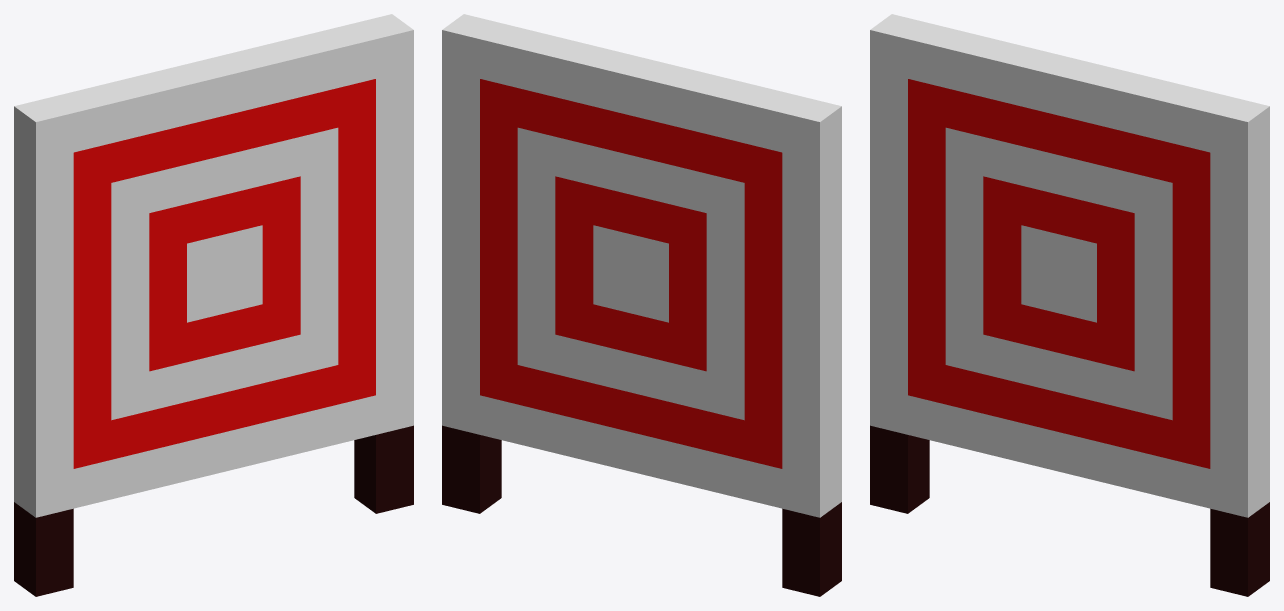
File: target.glb
3 views of the same model, side by side, from view 1: azimuth 30°, elevation 25°; view 2: azimuth 150°, elevation 25°; view 3: azimuth 330°, elevation 25° (orthographic).
Parts seen in each view (by area): view 1: Untitled; view 2: Untitled; view 3: Untitled.
Boxes of the visible parts, x1=… form: Untitled: x1=14, y1=14, x2=413, y2=596; Untitled: x1=442, y1=14, x2=841, y2=596; Untitled: x1=870, y1=14, x2=1269, y2=596.
Bounding box in the file's own units: 1 × 1.2 × 0.1.
1 material, 1 textured.
